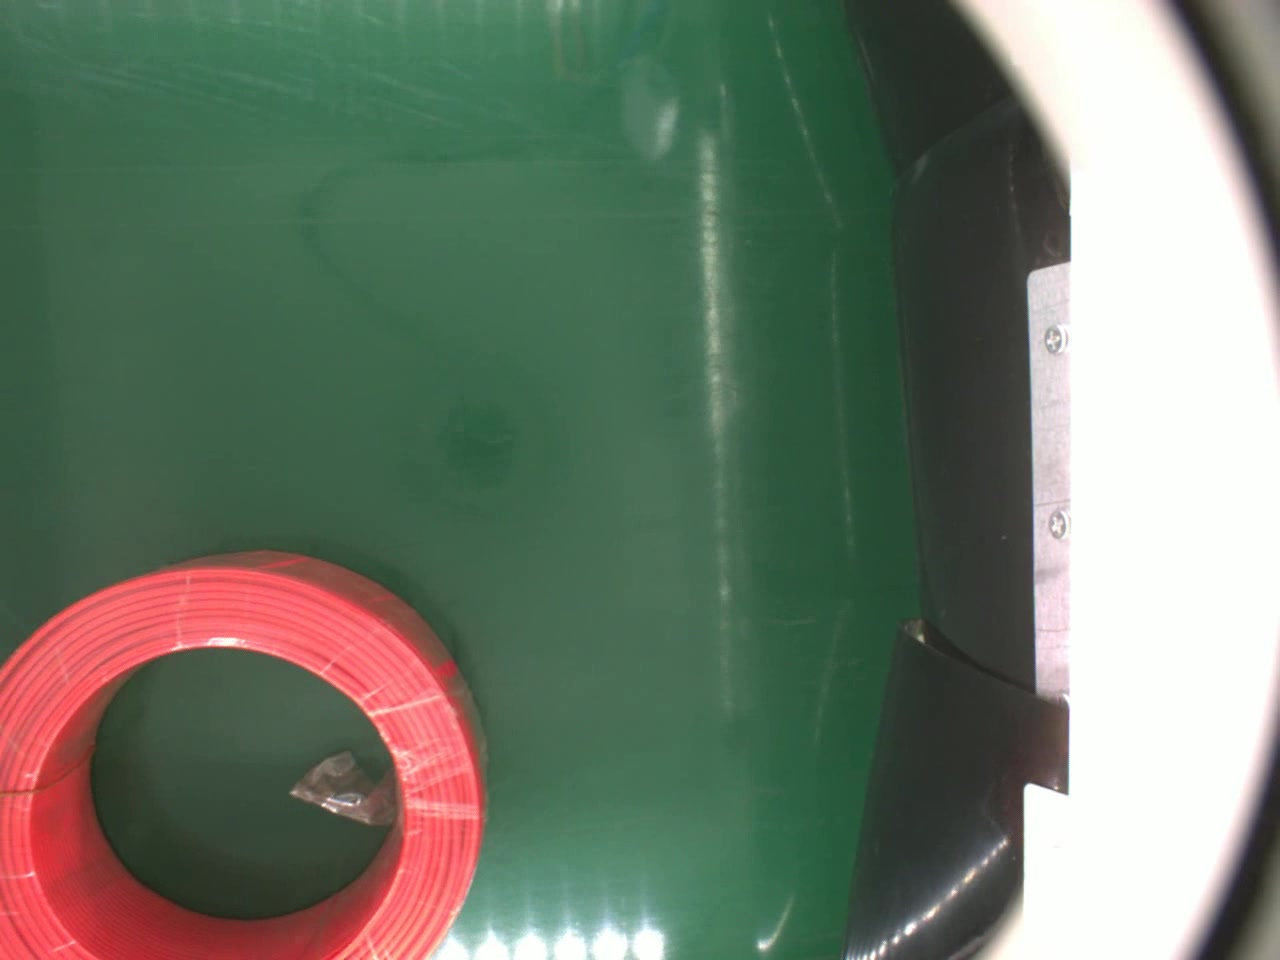red: (0, 548, 492, 960)
